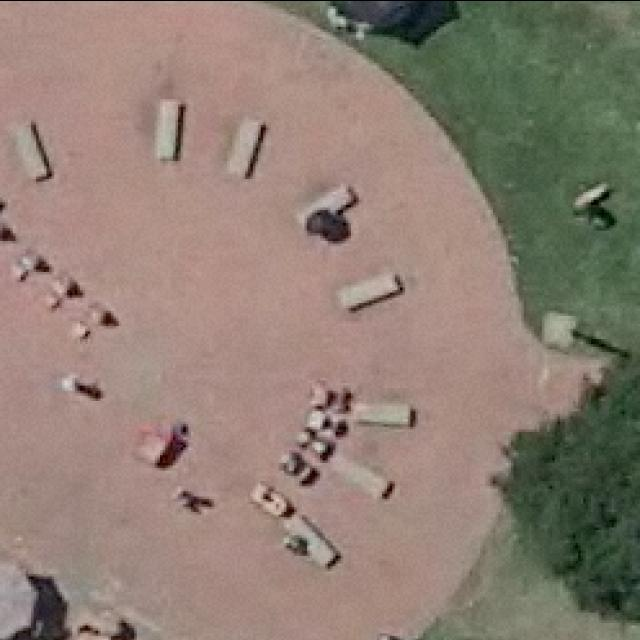vendedor_ambulante: (0, 552, 47, 639), (322, 0, 433, 31)
